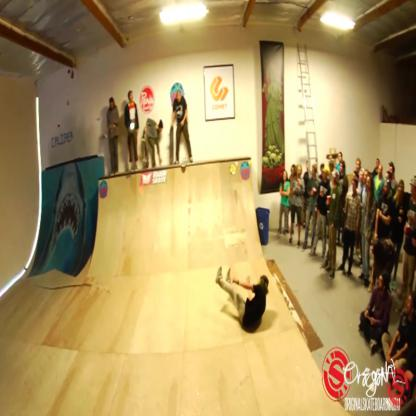Fall_Down: (214, 264, 272, 337)
